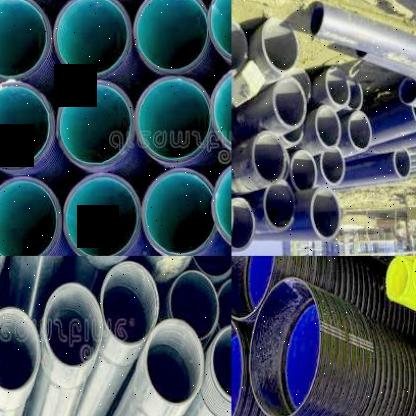pipe: (249, 277, 321, 416), (57, 80, 134, 169), (135, 76, 211, 164), (63, 172, 140, 256), (142, 168, 215, 256), (54, 0, 132, 80), (133, 0, 208, 72), (0, 174, 63, 256), (146, 319, 204, 406), (45, 283, 103, 368), (0, 82, 55, 171), (102, 262, 159, 345), (0, 0, 51, 81), (0, 307, 40, 391), (170, 270, 218, 340), (232, 256, 276, 320), (262, 18, 299, 74), (210, 65, 231, 155), (251, 130, 286, 184), (212, 158, 232, 250), (310, 187, 342, 241), (273, 78, 306, 130), (263, 180, 296, 231), (211, 325, 232, 404), (208, 0, 231, 63), (232, 308, 244, 416), (231, 198, 255, 251), (315, 105, 342, 150), (290, 150, 318, 192), (348, 111, 373, 152), (386, 256, 409, 300), (326, 66, 350, 108), (321, 146, 345, 186), (217, 278, 232, 338), (192, 256, 232, 277), (347, 77, 363, 112), (393, 148, 411, 179), (310, 2, 324, 37), (399, 77, 416, 103), (412, 256, 416, 293), (412, 106, 416, 127)
